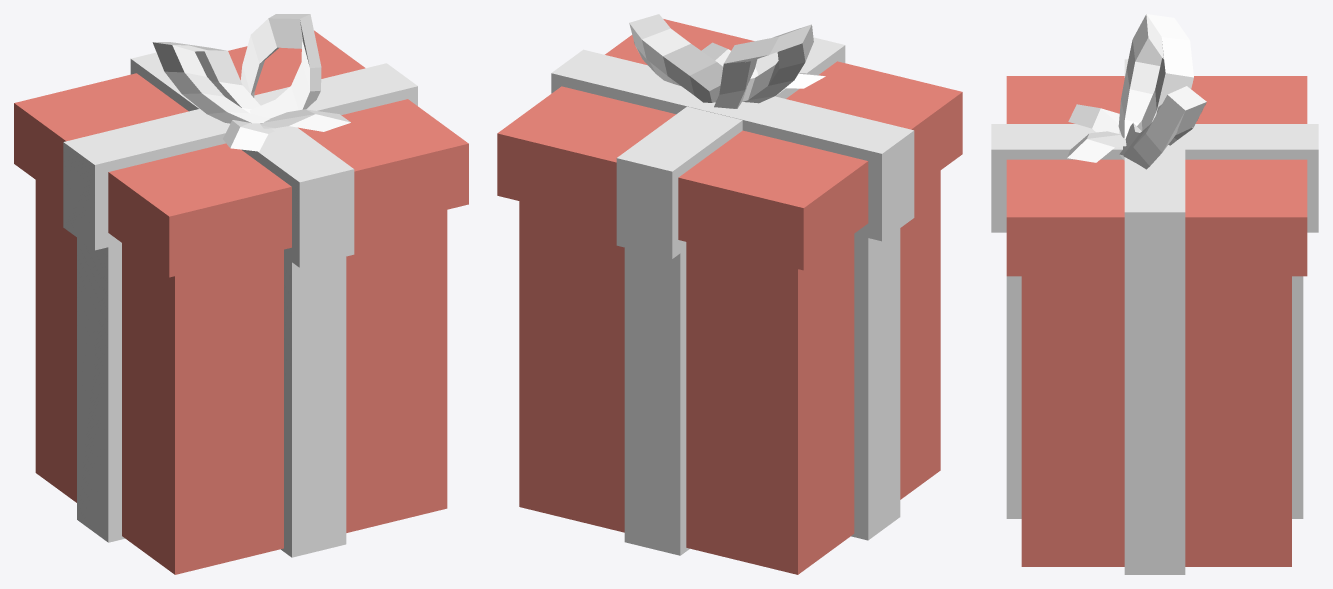
Rendered from Gift_Tall.glb.
The picture shows the model from 3 angles, left to right: view 1: azimuth 30°, elevation 25°; view 2: azimuth 150°, elevation 25°; view 3: azimuth 270°, elevation 25°; orthographic projection. The views are drawn at different scales.
Parts seen in each view (by area): view 1: gift_tall; view 2: gift_tall; view 3: gift_tall.
Part boxes in pixels (bbox=[...]): gift_tall: bbox=[14, 14, 468, 574]; gift_tall: bbox=[497, 14, 962, 574]; gift_tall: bbox=[991, 14, 1318, 574].
Bounding box in the file's own units: 0.95 × 1.32 × 0.86.
